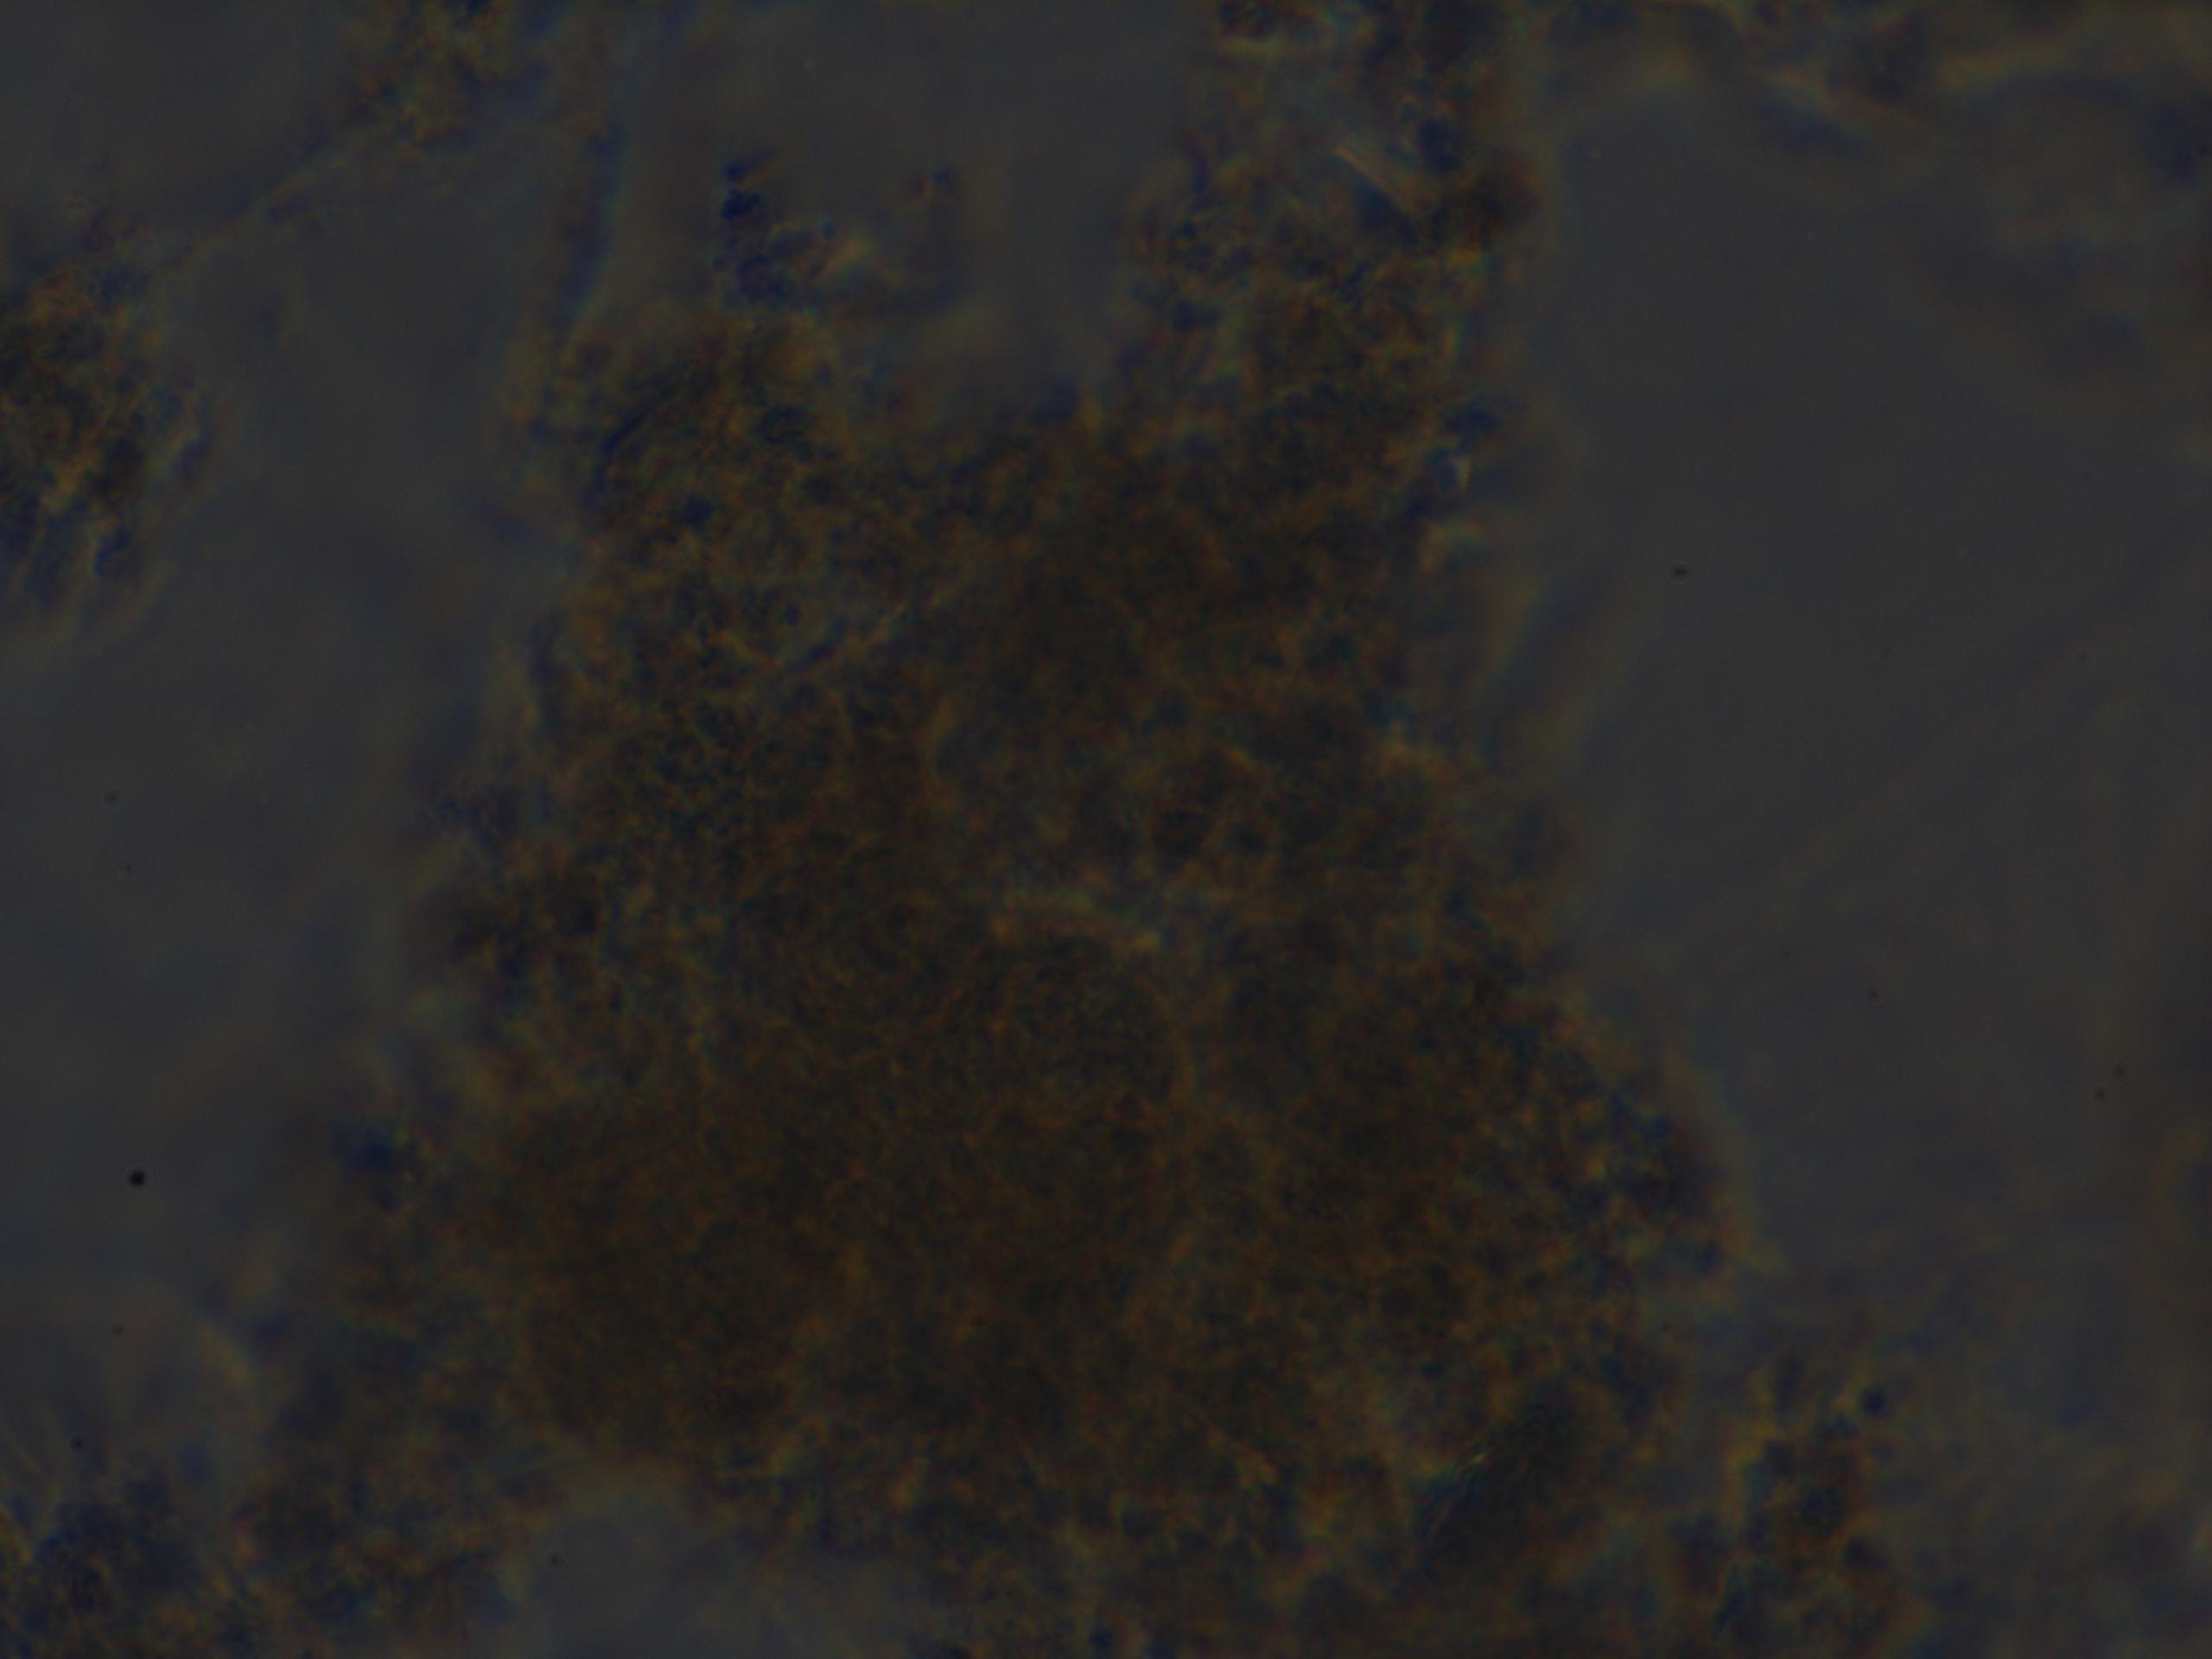filament: (57, 0, 495, 343)
spherical_floc: (395, 162, 1747, 1593)
